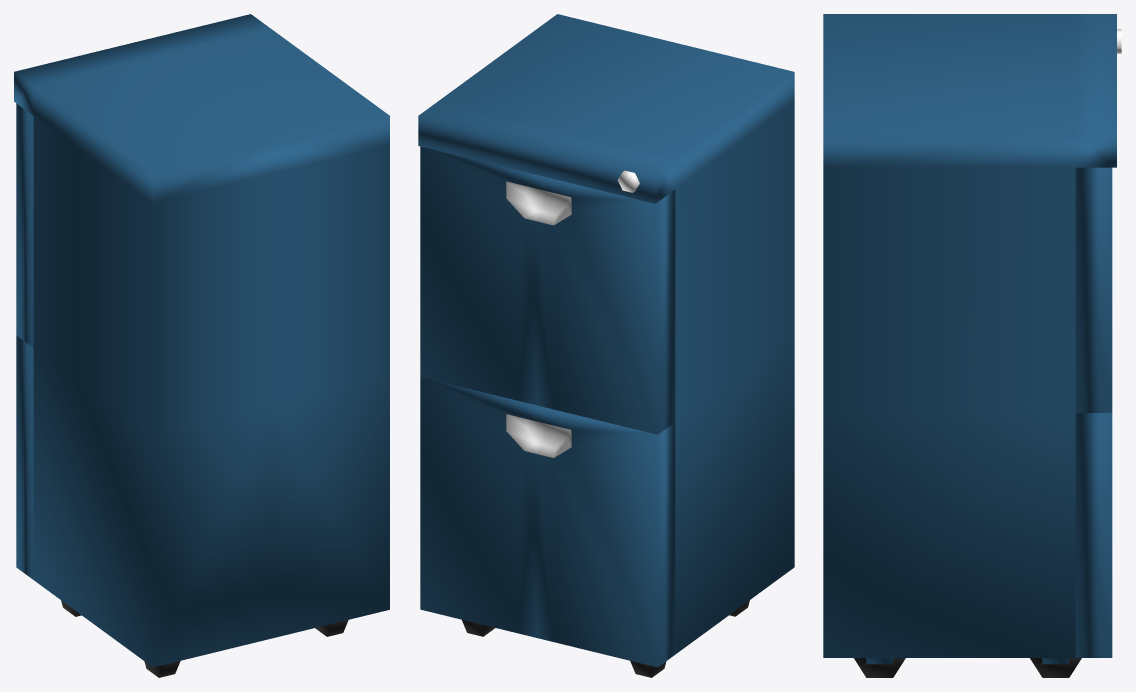
File: cabinets.glb
The picture shows the model from 3 angles, left to right: view 1: azimuth 30°, elevation 25°; view 2: azimuth 150°, elevation 25°; view 3: azimuth 270°, elevation 25°; orthographic projection. The views are drawn at different scales.
Parts seen in each view (by area): view 1: mesh_furniture_cabinet_big_body_01, mesh_furniture_cabinet_big_door_top_01, mesh_furniture_cabinet_big_door_bot_01; view 2: mesh_furniture_cabinet_big_body_01, mesh_furniture_cabinet_big_door_bot_01, mesh_furniture_cabinet_big_door_top_01; view 3: mesh_furniture_cabinet_big_body_01, mesh_furniture_cabinet_big_door_top_01, mesh_furniture_cabinet_big_door_bot_01.
Part boxes in pixels (left/top/right/bottom): mesh_furniture_cabinet_big_body_01: left=14, top=14, right=389, bottom=677; mesh_furniture_cabinet_big_door_top_01: left=16, top=103, right=33, bottom=347; mesh_furniture_cabinet_big_door_bot_01: left=16, top=335, right=33, bottom=579; mesh_furniture_cabinet_big_body_01: left=418, top=14, right=794, bottom=677; mesh_furniture_cabinet_big_door_bot_01: left=420, top=377, right=675, bottom=667; mesh_furniture_cabinet_big_door_top_01: left=420, top=146, right=675, bottom=434; mesh_furniture_cabinet_big_body_01: left=823, top=14, right=1121, bottom=677; mesh_furniture_cabinet_big_door_top_01: left=1075, top=167, right=1112, bottom=412; mesh_furniture_cabinet_big_door_bot_01: left=1075, top=413, right=1112, bottom=657.
Size of the model in its own units: 0.5795 by 1.23 by 0.5981.
Materials: 1 (1 with a texture image).
